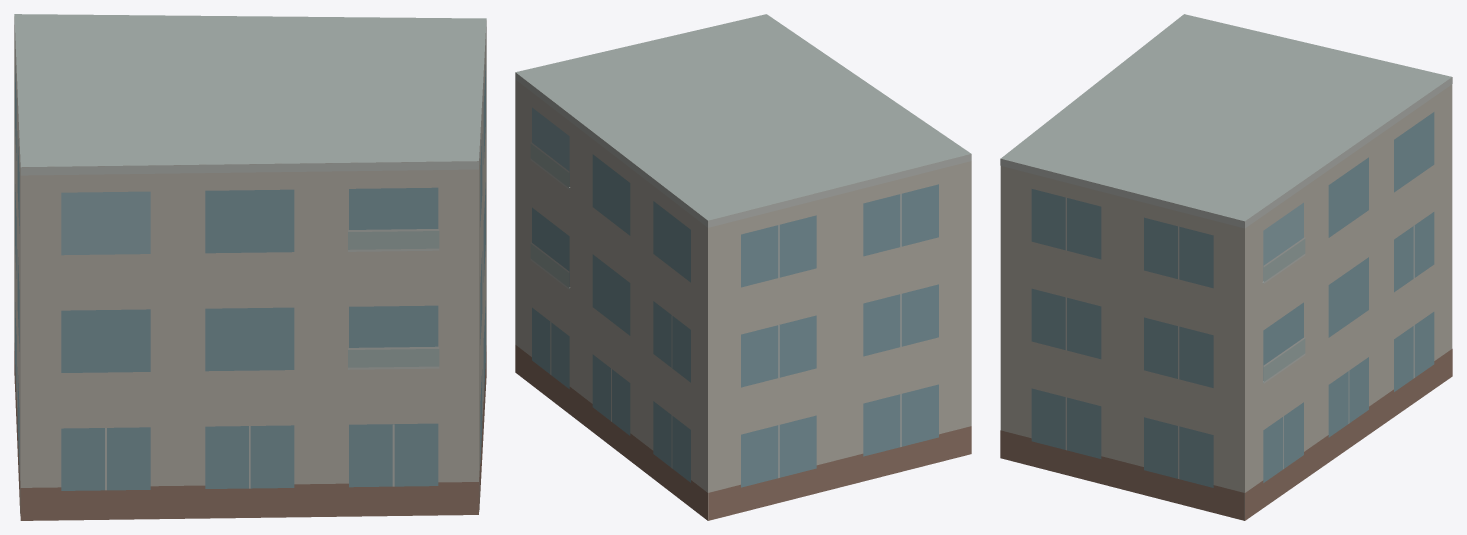
The model's file is survey-upis-32924311.glb.
3 renders of one model, left to right at view 1: azimuth 30°, elevation 25°; view 2: azimuth 150°, elevation 25°; view 3: azimuth 270°, elevation 25°, orthographic. The views are drawn at different scales.
Visible parts, largest first — view 1: survey-upis-32924311.tmp; view 2: survey-upis-32924311.tmp; view 3: survey-upis-32924311.tmp.
Boxes of the visible parts, x1,y1,x2,y2 form: survey-upis-32924311.tmp: (14, 14, 486, 520); survey-upis-32924311.tmp: (515, 14, 971, 520); survey-upis-32924311.tmp: (1000, 14, 1452, 520).
Size of the model in its own units: 15.15 by 10.2 by 13.96.
